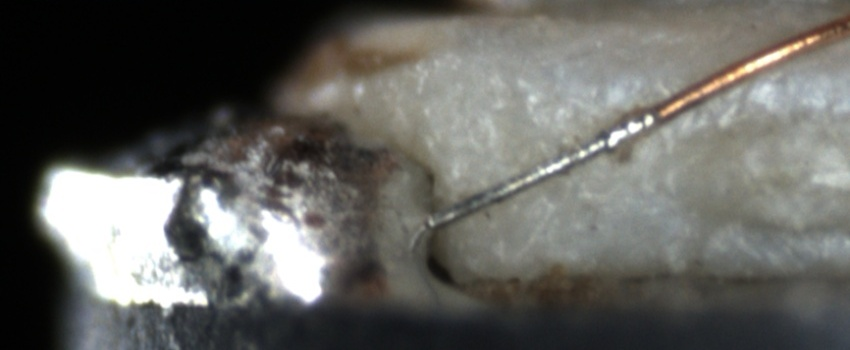DL: (555, 63, 850, 106)
TS: (432, 109, 659, 225)
TTCW: (430, 78, 710, 230)
